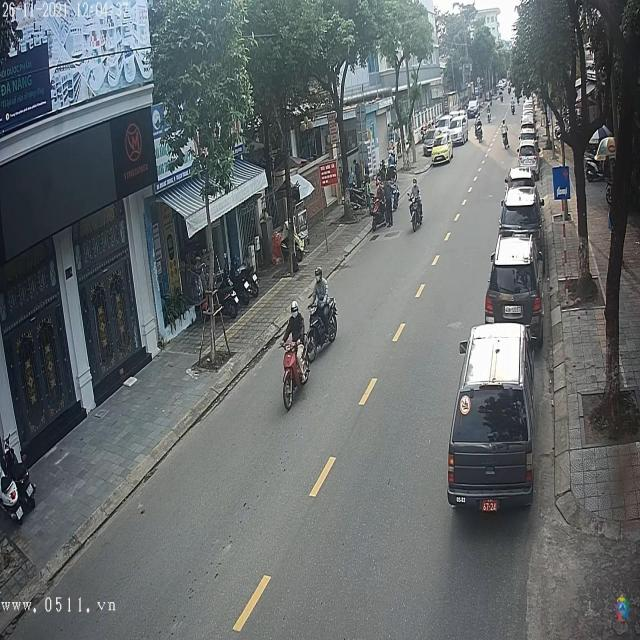car: (444, 317, 539, 521), (485, 235, 543, 332), (500, 187, 544, 238), (517, 144, 539, 171), (517, 125, 537, 142), (469, 99, 480, 116)
motorcycle: (280, 335, 313, 415), (305, 296, 341, 362), (410, 197, 425, 235)
